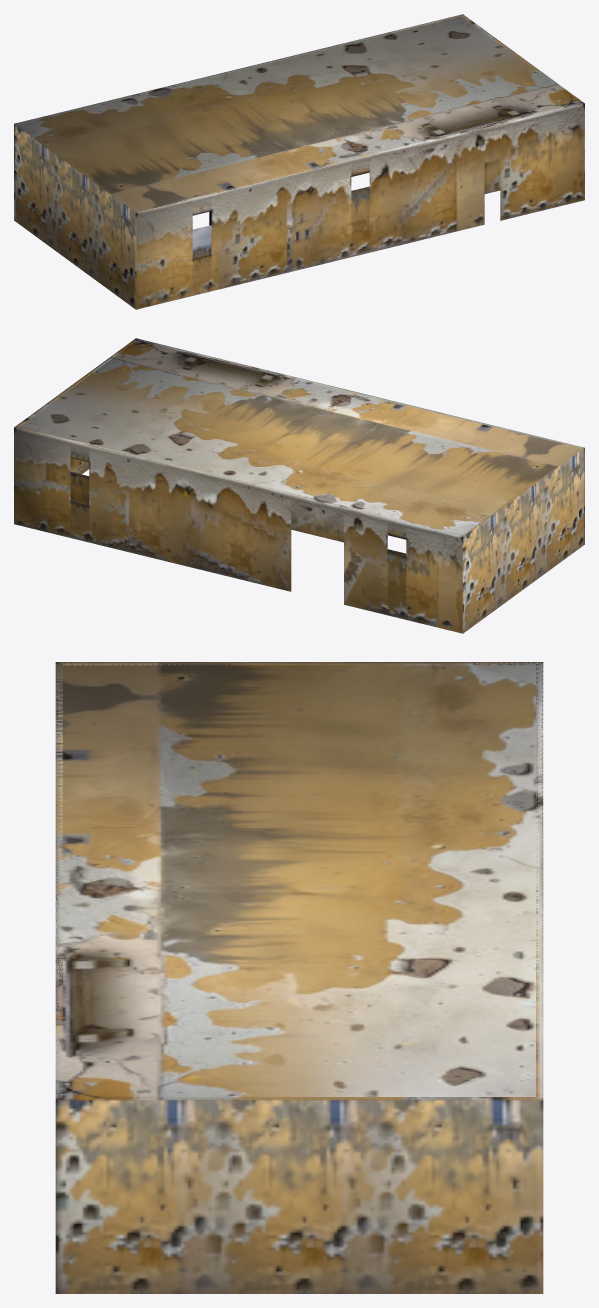
Rendered from skin_harbour_-40_30.glb.
The picture shows the model from 3 angles, top to bottom: view 1: azimuth 30°, elevation 25°; view 2: azimuth 150°, elevation 25°; view 3: azimuth 270°, elevation 25°; orthographic projection. The views are drawn at different scales.
Parts seen in each view (by area): view 1: harbour_-40_30; view 2: harbour_-40_30; view 3: harbour_-40_30.
Part boxes in pixels (bbox=[...]): harbour_-40_30: bbox=[14, 14, 584, 309]; harbour_-40_30: bbox=[14, 338, 584, 633]; harbour_-40_30: bbox=[55, 662, 543, 1293].
Size of the model in its own units: 34 by 7 by 16.
1 material, 1 textured.
